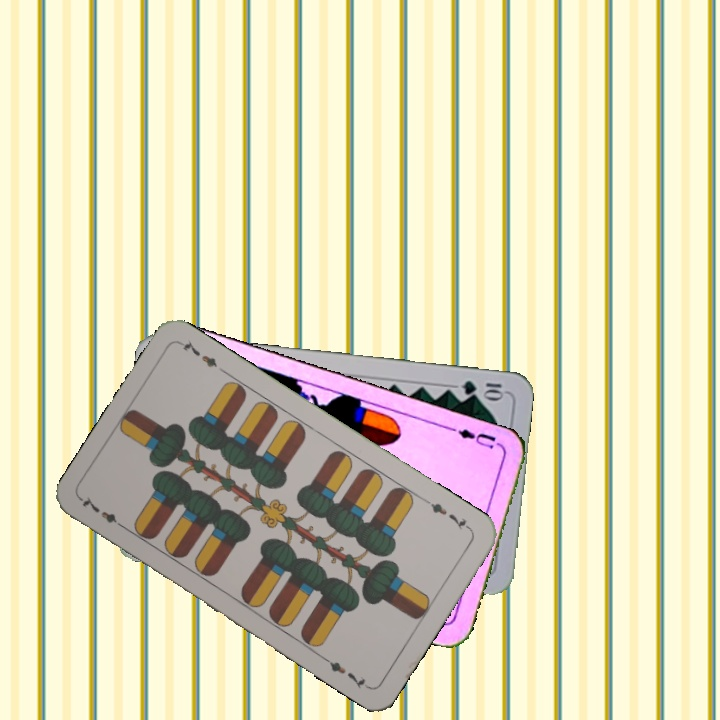E7: (77, 492, 129, 533), (422, 495, 474, 533)
EU: (454, 424, 499, 451)
G10: (457, 376, 507, 401)
